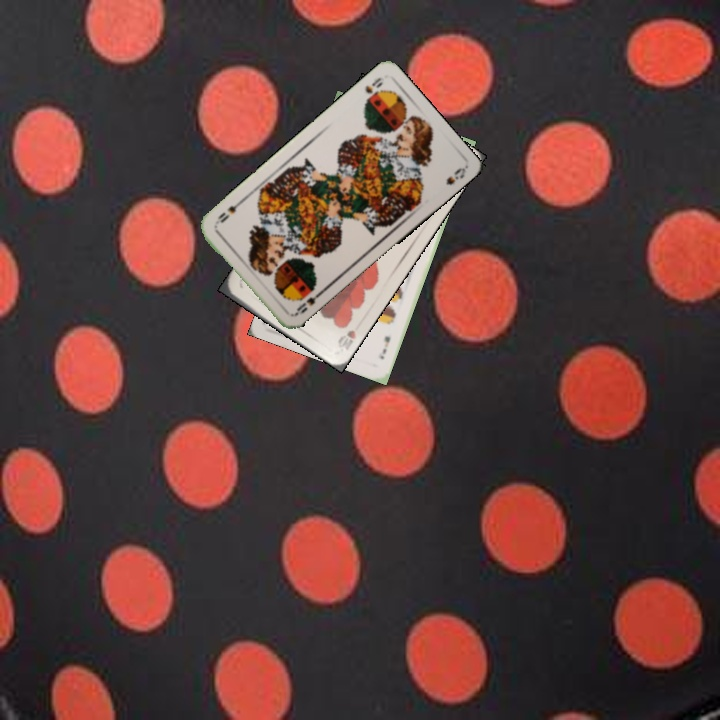E7: (374, 332, 393, 362)
H10: (333, 326, 359, 353)
SO: (290, 288, 324, 319), (361, 73, 386, 96)
